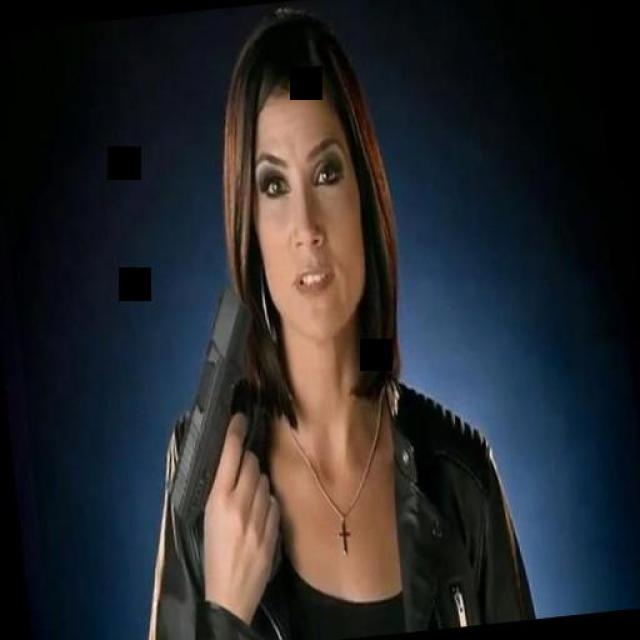gun: (136, 288, 292, 592)
